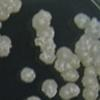white: (32, 37, 57, 66), (27, 7, 54, 32), (40, 78, 59, 99), (19, 65, 37, 85), (34, 26, 56, 42), (72, 12, 90, 31), (54, 45, 74, 61), (60, 69, 80, 82), (65, 82, 81, 98), (8, 0, 25, 14), (0, 40, 13, 58), (82, 66, 97, 81), (68, 53, 81, 70), (80, 89, 100, 100), (85, 17, 100, 31), (79, 76, 100, 86), (54, 59, 68, 74), (81, 28, 100, 39), (59, 85, 71, 100), (0, 9, 13, 22), (0, 33, 12, 47), (80, 84, 100, 92), (65, 60, 75, 73), (0, 0, 10, 10), (25, 94, 41, 100), (95, 63, 100, 77), (0, 20, 5, 31)
